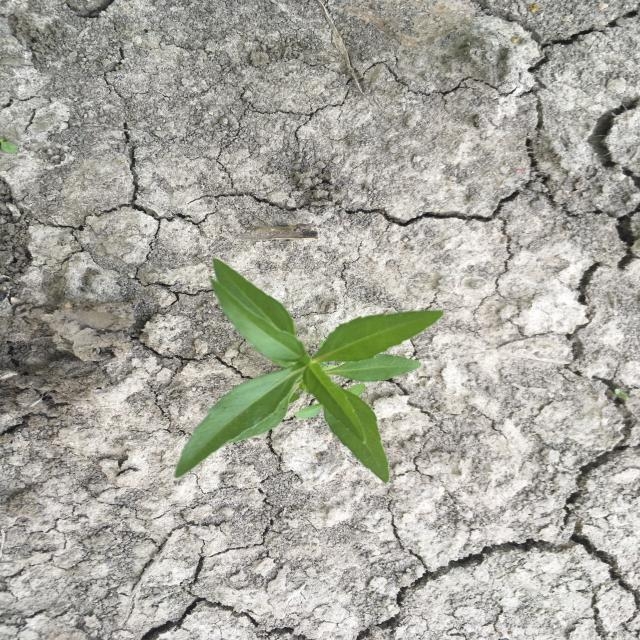Eclipta: (172, 256, 446, 486)
